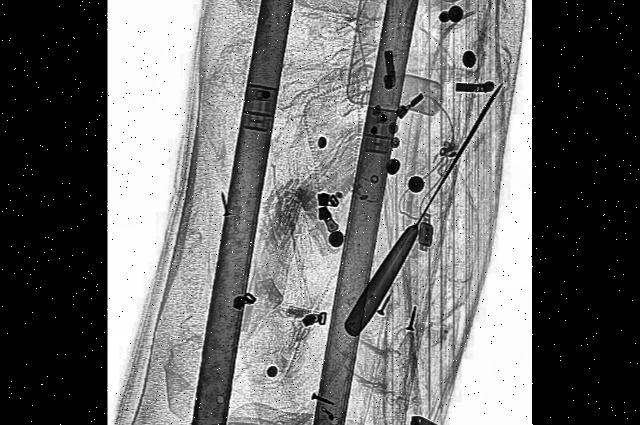Knife: (343, 72, 508, 342)
